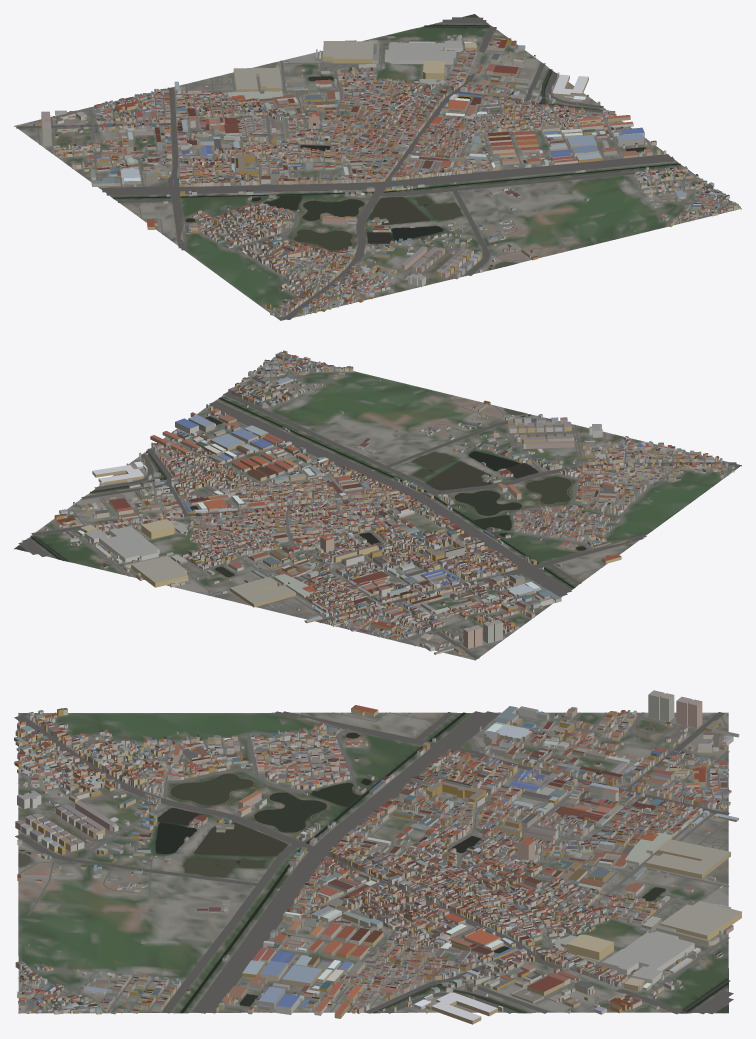
3 views of the same model, one above another, from view 1: azimuth 30°, elevation 25°; view 2: azimuth 150°, elevation 25°; view 3: azimuth 270°, elevation 25° (orthographic). The views are drawn at different scales.
Parts seen in each view (by area): view 1: buildings, ground, roads, water; view 2: buildings, ground, roads, water; view 3: buildings, ground, roads, water.
Part boxes in pixels (x1,y1,x2,y2): buildings: (33,32,740,316); ground: (14,14,741,320); roads: (16,17,741,320); water: (66,14,680,269); buildings: (45,350,734,654); ground: (14,357,741,660); roads: (18,358,741,659); water: (15,397,585,632); buildings: (14,690,741,1024); ground: (18,712,728,1013); roads: (14,711,733,1014); water: (19,712,730,1013).
Bounding box in the file's own units: 1474 × 54.92 × 1437.
